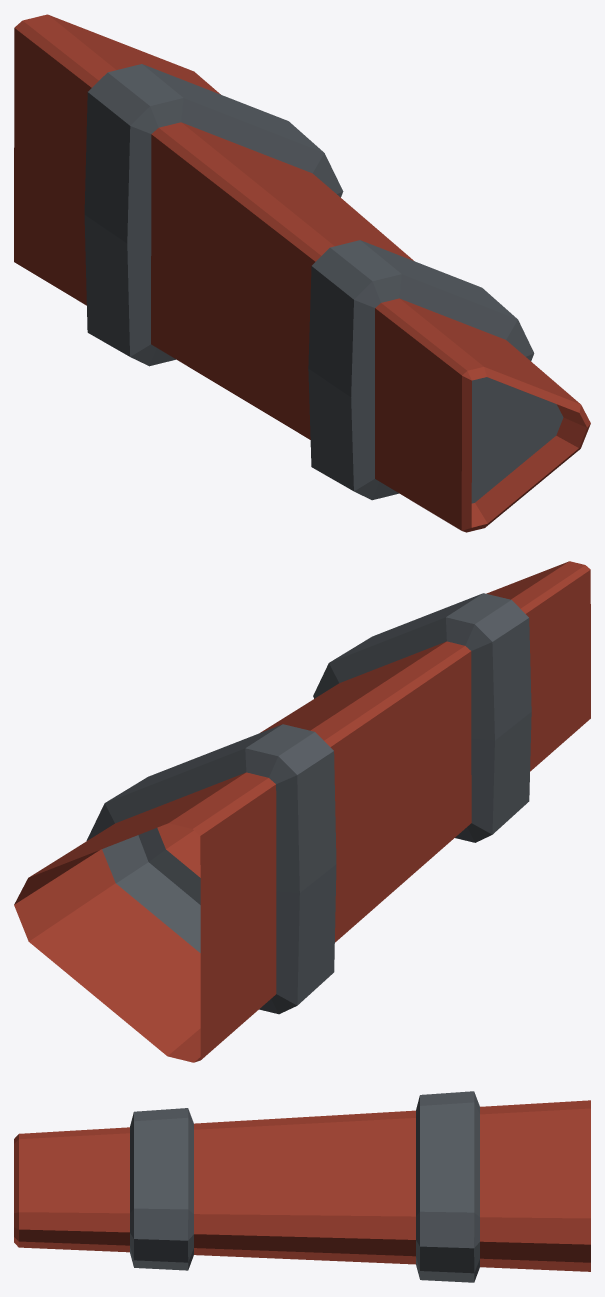
File: Mothership_02_Thruster_Nozzle_Red.fbx
3 renders of one model, top to bottom at view 1: azimuth 30°, elevation 25°; view 2: azimuth 150°, elevation 25°; view 3: azimuth 270°, elevation 25°, orthographic. The views are drawn at different scales.
Visible parts, largest first — view 1: Mothership_02_Thruster_Nozzle_Red; view 2: Mothership_02_Thruster_Nozzle_Red; view 3: Mothership_02_Thruster_Nozzle_Red.
Part boxes in pixels (<box>): Mothership_02_Thruster_Nozzle_Red: <box>14,14,590,532</box>; Mothership_02_Thruster_Nozzle_Red: <box>14,561,590,1062</box>; Mothership_02_Thruster_Nozzle_Red: <box>14,1091,590,1282</box>.
Bounding box in the file's own units: 238 × 274 × 796.
Materials: 1 (1 with a texture image).
